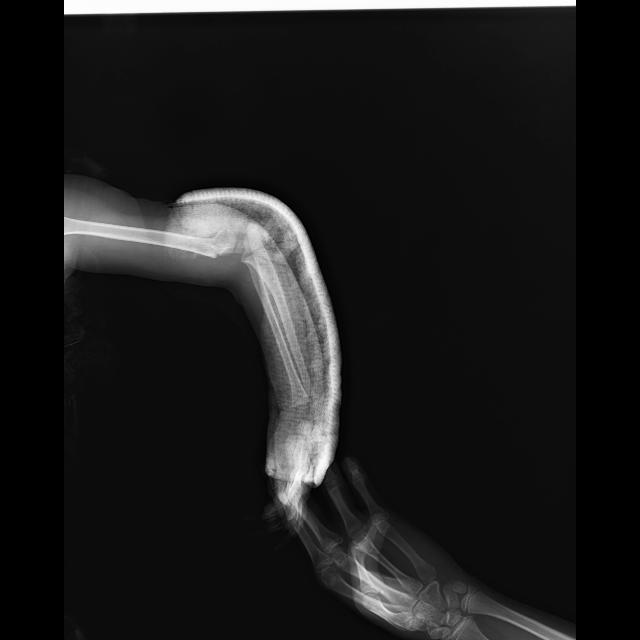Fracture: (208, 242, 238, 261)
